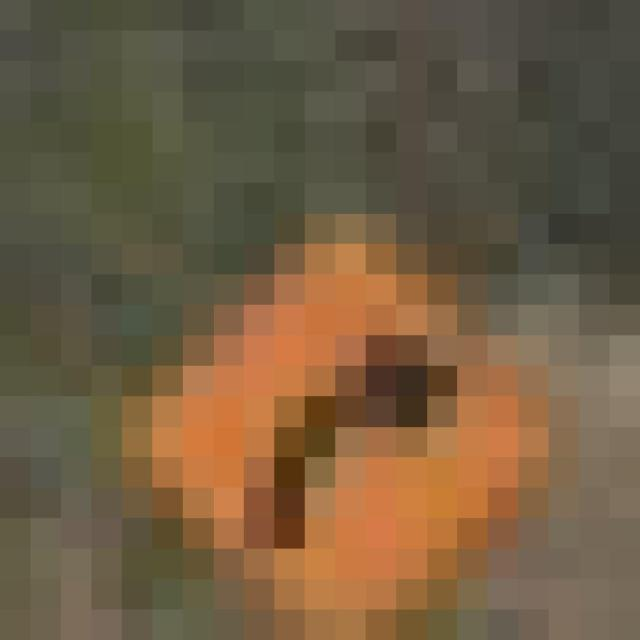Tikungan Ke Kanan: (31, 121, 580, 610)
